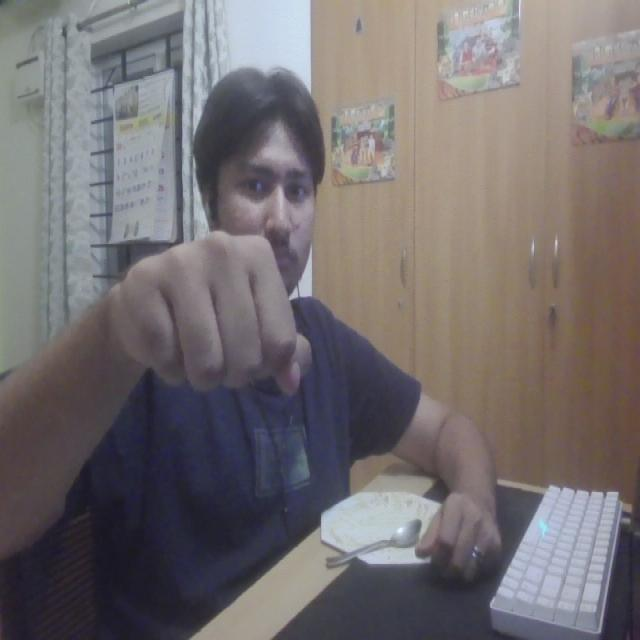yes: (106, 223, 324, 396)
